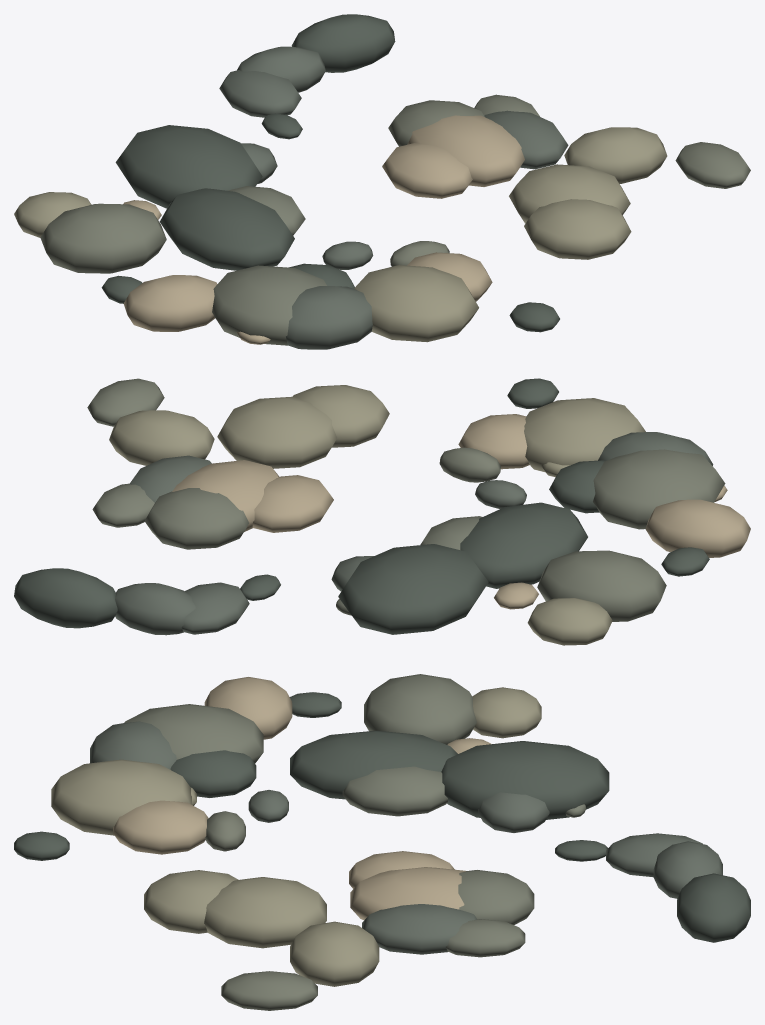
Rendered from gravel.glb.
3 views of the same model, one above another, from view 1: azimuth 30°, elevation 25°; view 2: azimuth 150°, elevation 25°; view 3: azimuth 270°, elevation 25° (orthographic). The views are drawn at different scales.
Visible parts, largest first — view 1: gravel; view 2: gravel; view 3: gravel.
Part boxes in pixels (left/top/right/bottom): gravel: left=14, top=14, right=750, bottom=349; gravel: left=14, top=378, right=750, bottom=645; gravel: left=14, top=674, right=750, bottom=1010.
Size of the model in its own units: 1.79 by 0.1437 by 1.76.
